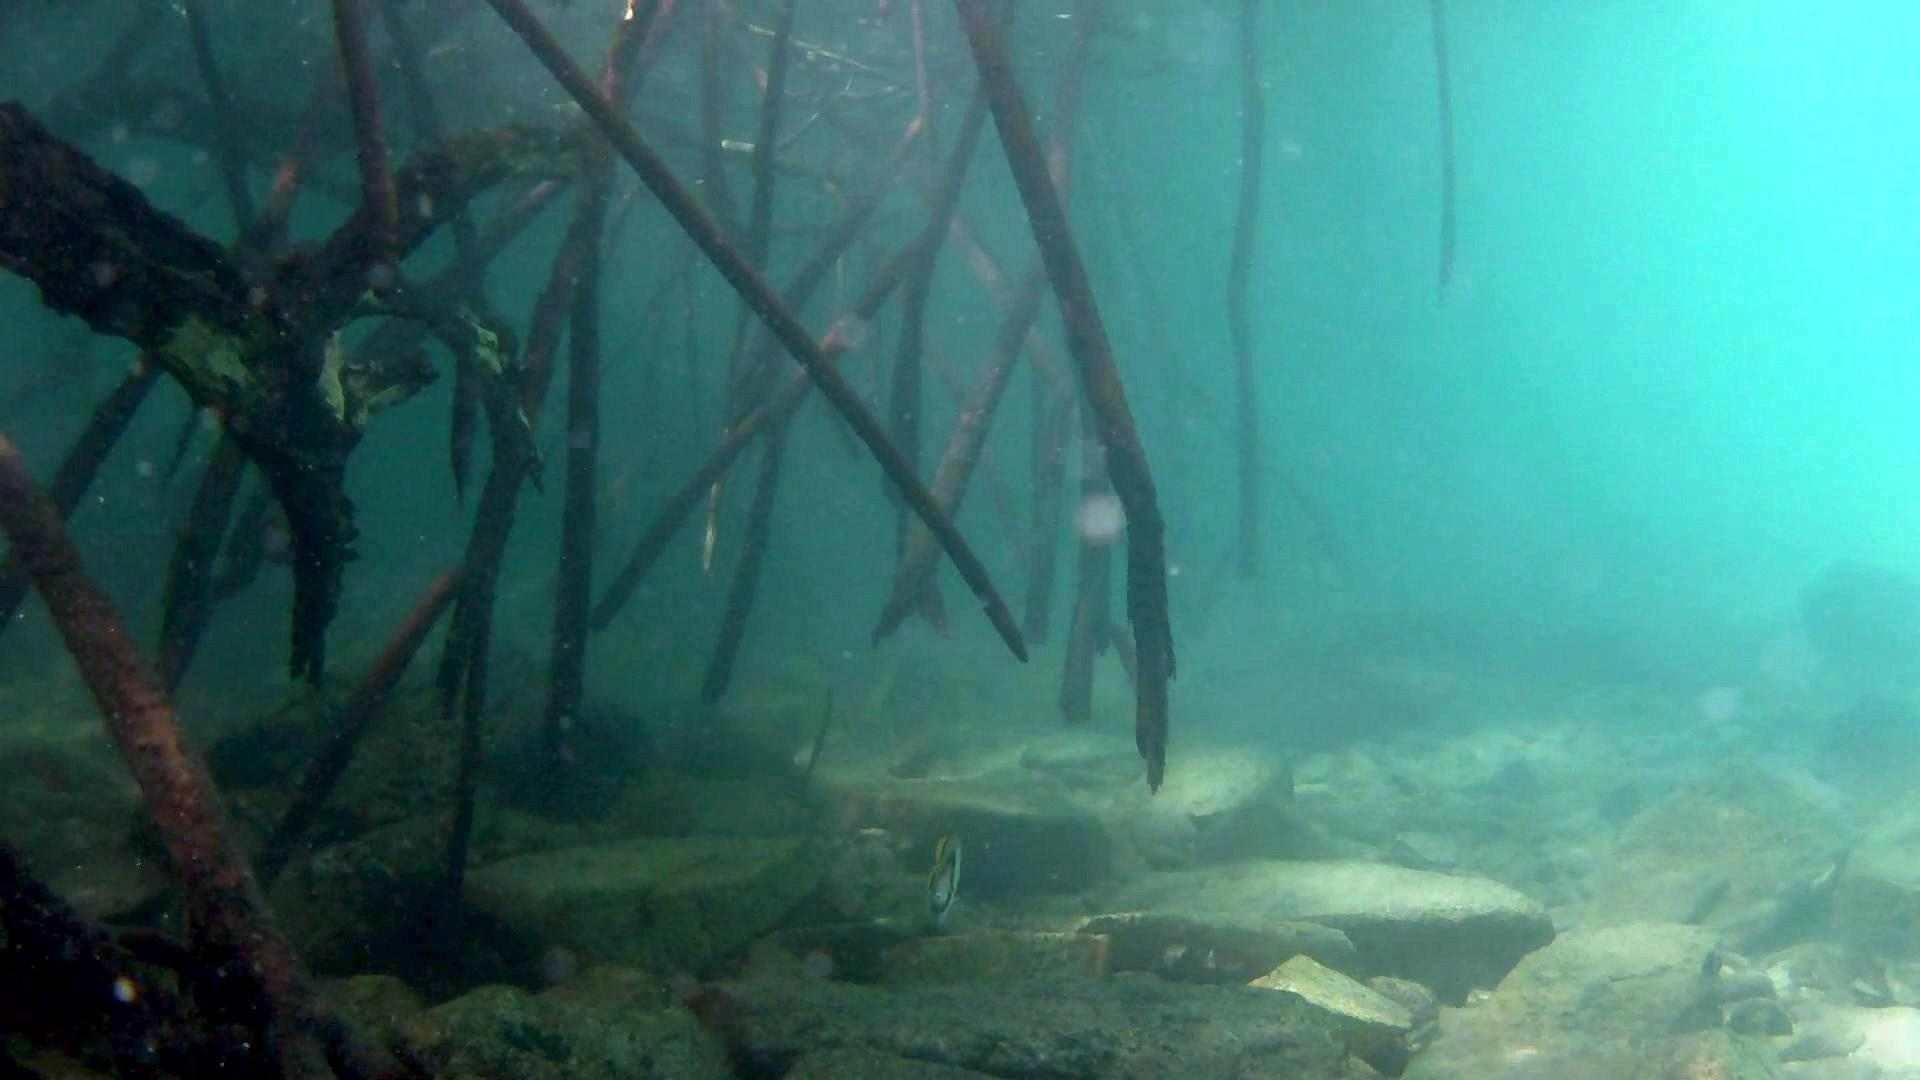chaetodon vagabundus: (922, 826, 966, 935)
